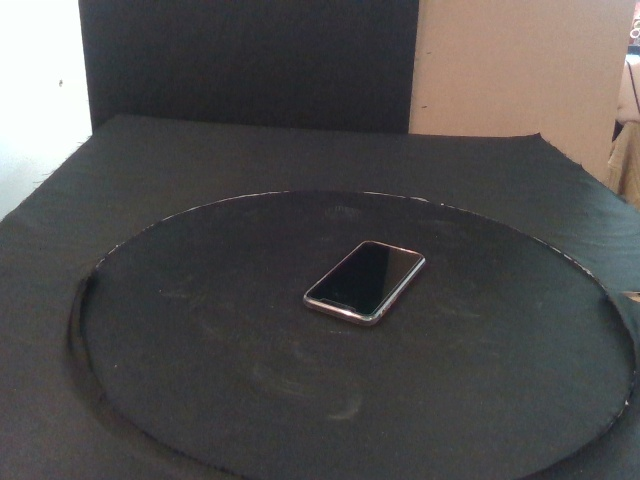phone: (303, 239, 426, 327)
